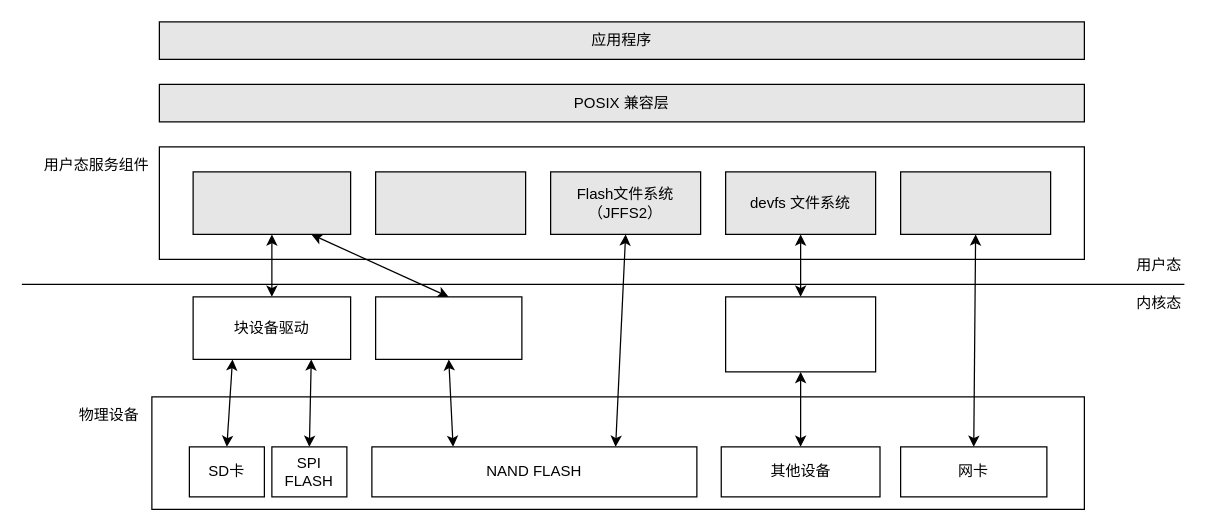
Image size: 1219x531. Some labels were removed from this diagram. The shapes that lost their labels are listed below. From the top down, each one's centre as x and y in pixels, then its label:
point 271,202: FAT32文件系统
point 450,202: 内存文件系统
point 975,202: 网络驱动
point 448,327: Flash转换层
point 800,334: 设备驱动模块
